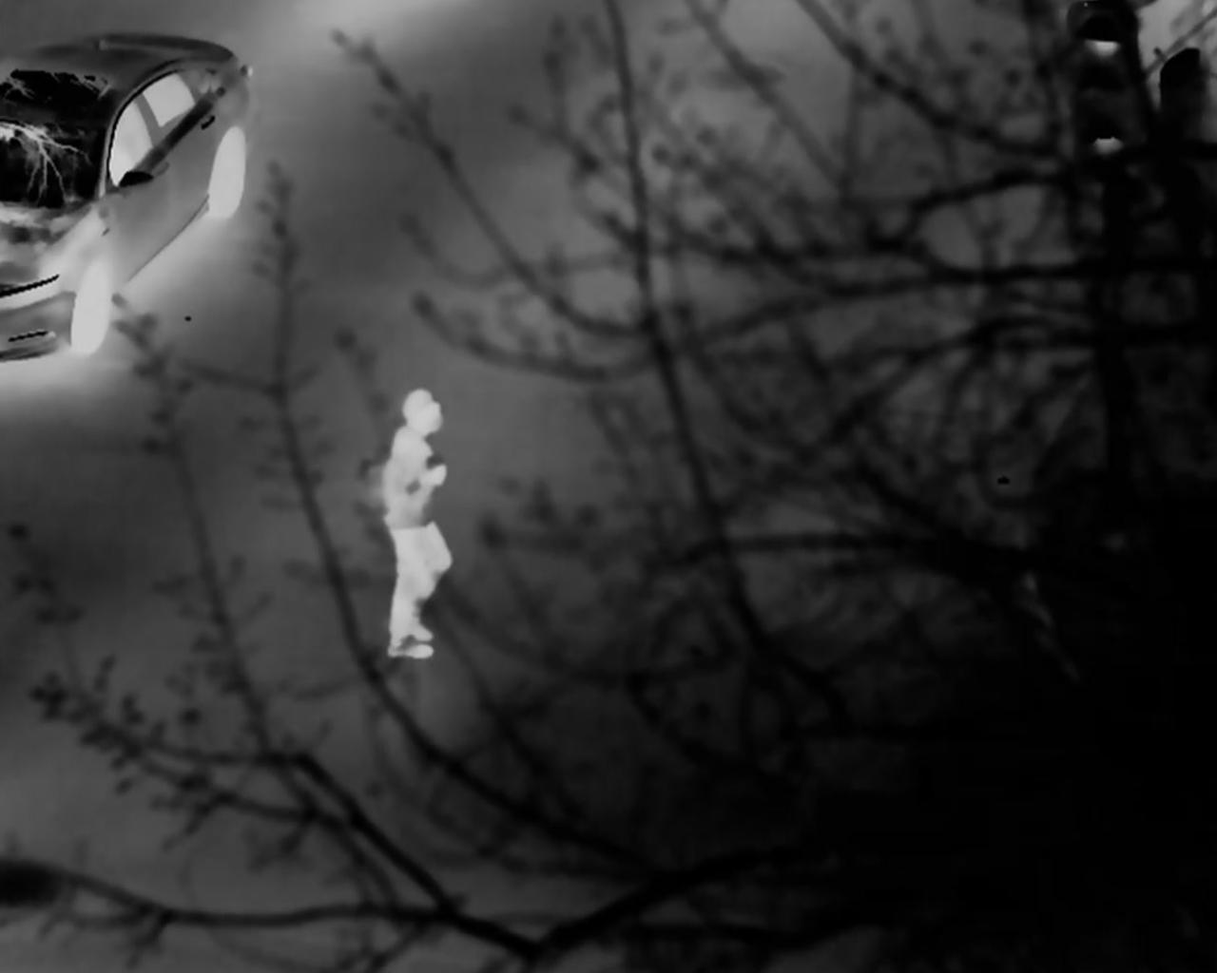person: (375, 386, 455, 659)
